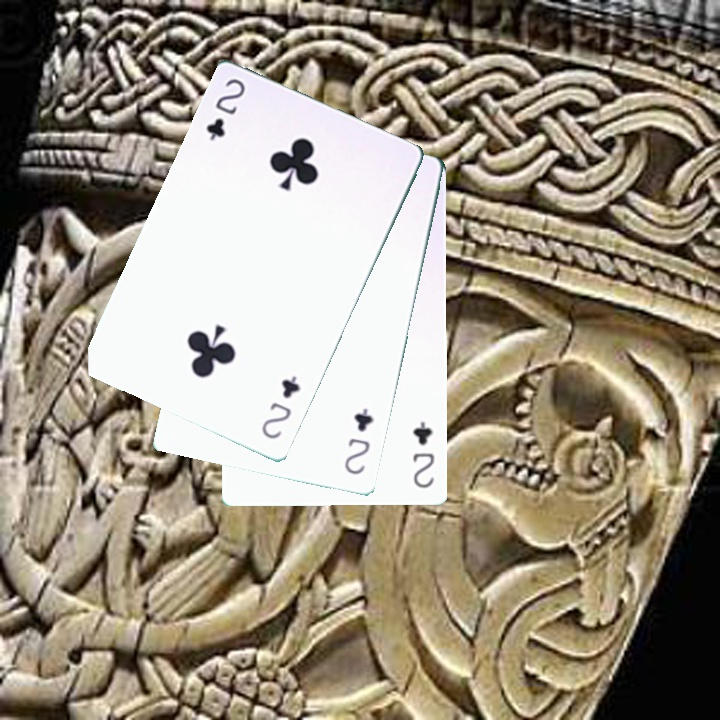2c: (257, 372, 304, 442), (202, 74, 248, 144), (340, 404, 377, 477), (409, 417, 437, 491)
